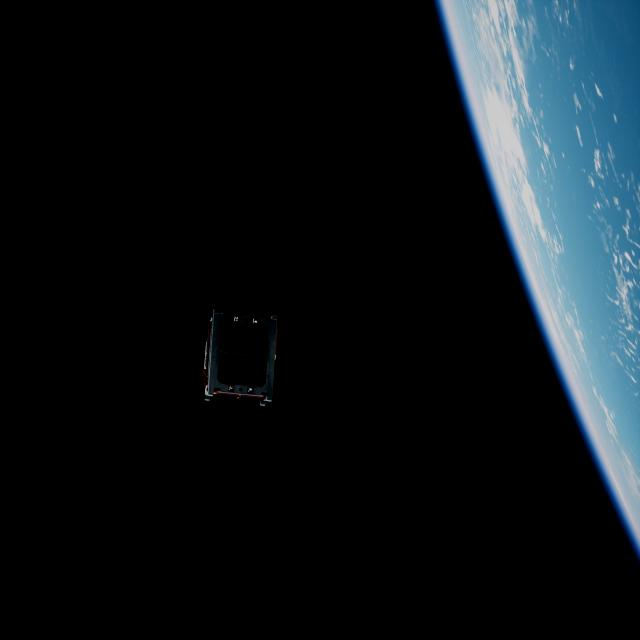satellite: (196, 309, 283, 414)
